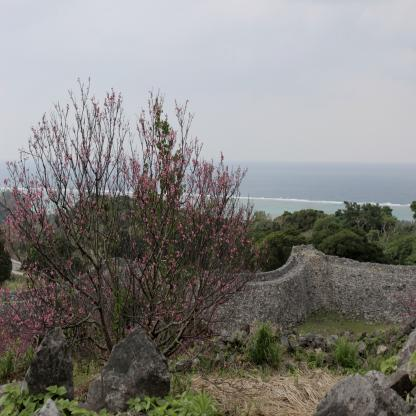KanhiSakura: (0, 76, 258, 336)
